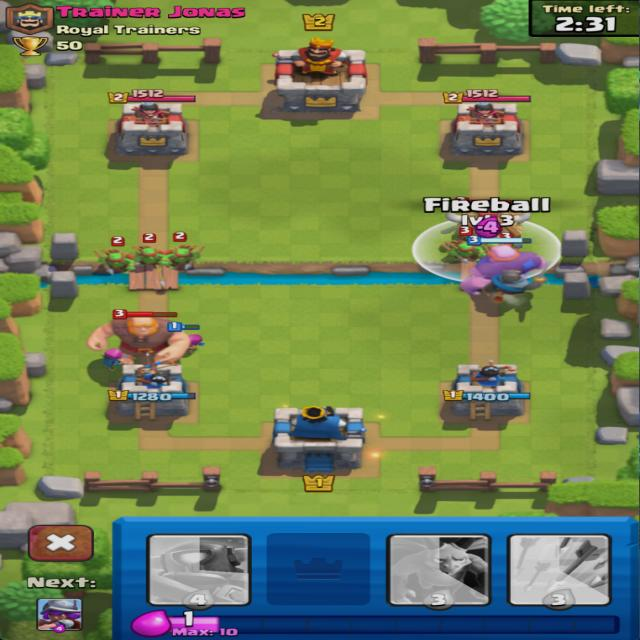Archer_Troop: (183, 333, 209, 353), (102, 348, 126, 369)
Arrows_Loading: (508, 534, 608, 611)
Empty_Card: (267, 532, 372, 606)
Enemy_Giant_Troop: (90, 314, 194, 362)
Enemy_Goblin_Hut_Troop: (442, 210, 534, 242)
Enemy_Spear_Goblin_Troop: (165, 248, 201, 270), (443, 242, 481, 262), (132, 244, 160, 268), (100, 251, 133, 270)
Fireball_Placing: (415, 196, 564, 282)
Knight_Troop: (464, 243, 547, 295), (478, 270, 549, 302)
Mini_Pekka_Loading: (147, 534, 251, 611)
Minions_Loading: (387, 535, 492, 611)
Musketeer_Next: (24, 576, 100, 633)
